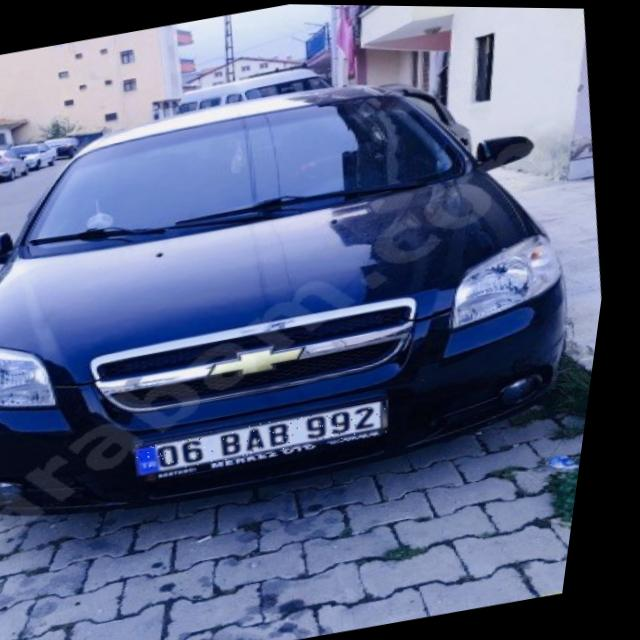license_plate: (144, 396, 403, 479)
